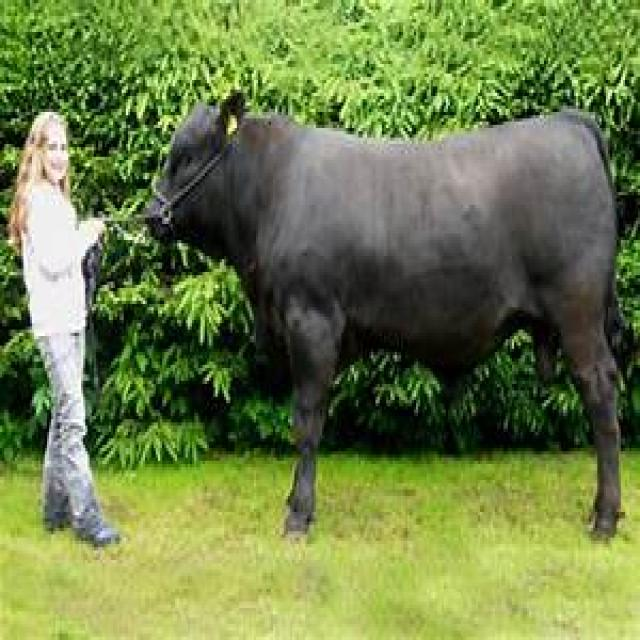cow: (148, 94, 620, 535)
